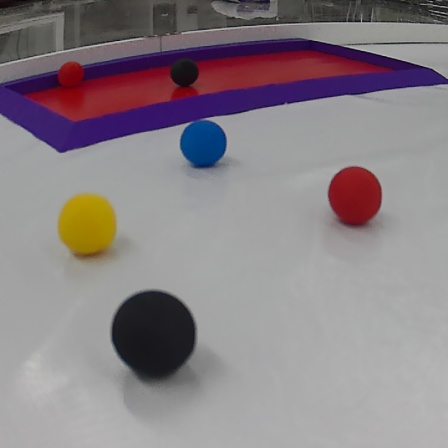black: (111, 288, 198, 386), (168, 54, 203, 90)
blue: (180, 120, 236, 170)
red: (324, 164, 387, 232), (57, 60, 88, 96)
red_aim: (0, 31, 443, 149)
yellow: (57, 195, 122, 257)
